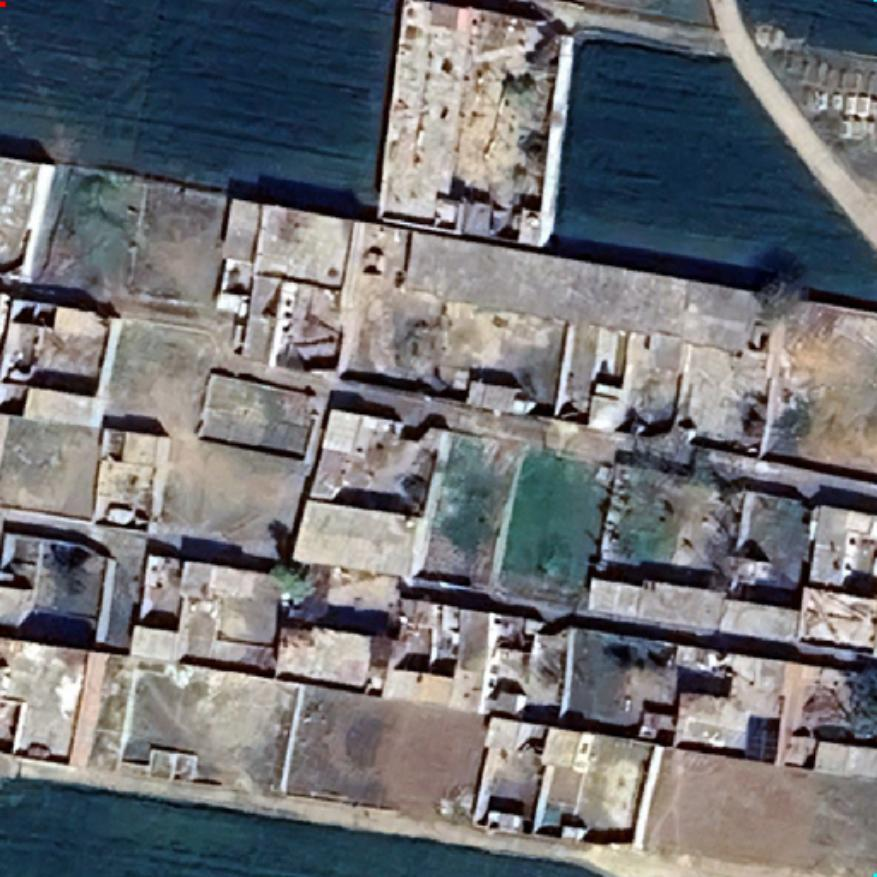Solarpanel: (743, 713, 783, 765)
